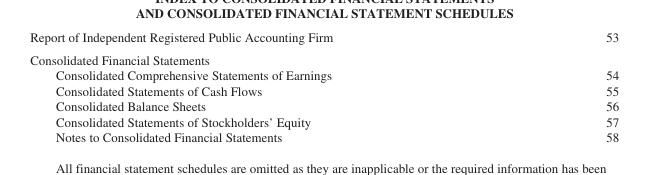table: (29, 29, 618, 144)
table column: (29, 29, 468, 144), (468, 29, 618, 144)
table projected row header: (29, 47, 618, 67)
table row: (29, 47, 618, 67), (29, 29, 618, 47), (29, 82, 618, 98), (29, 113, 618, 129), (29, 67, 618, 82), (29, 98, 618, 113), (29, 129, 618, 144)
